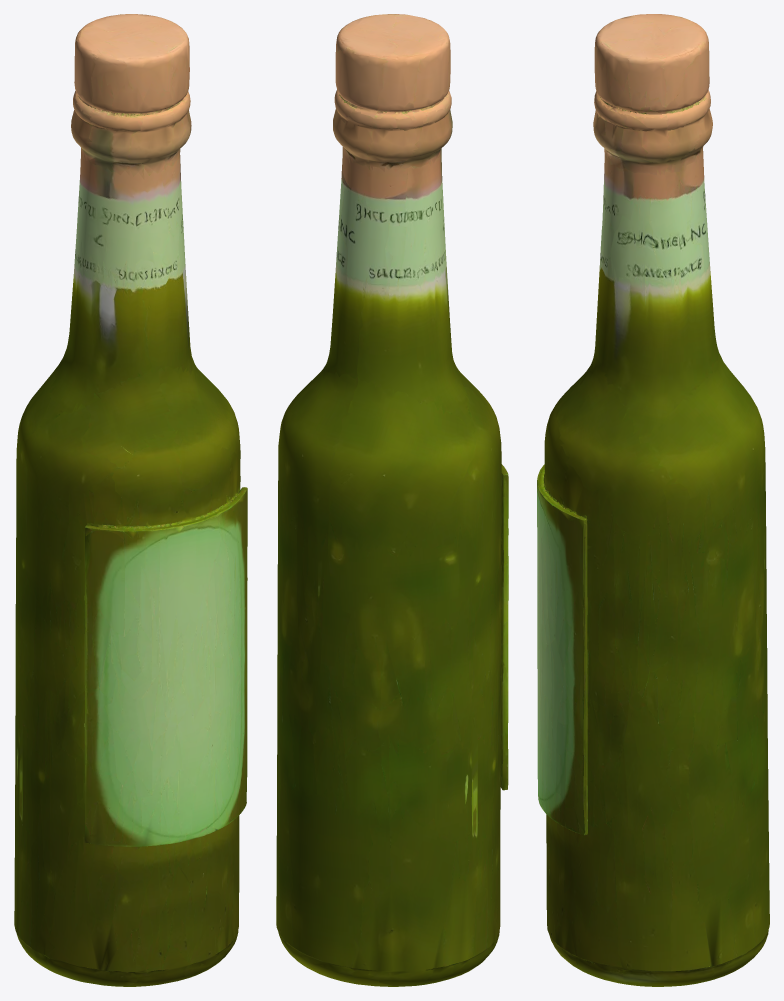
File: kitchen-hot-sauce-09.glb
The picture shows the model from 3 angles, left to right: view 1: azimuth 30°, elevation 25°; view 2: azimuth 150°, elevation 25°; view 3: azimuth 270°, elevation 25°; orthographic projection.
Bounding box in the file's own units: 0.4243 × 1.9 × 0.4387.
1 material, 1 textured.
